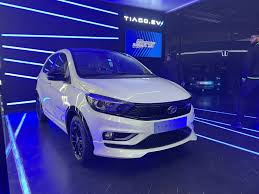Tiago: (28, 46, 199, 164)
